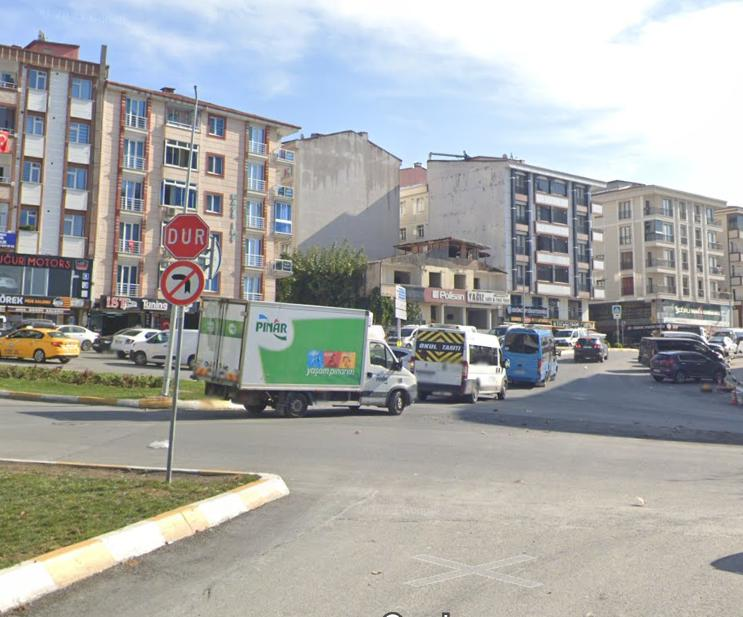leftturnsareforbidden: (160, 259, 204, 304)
stop: (165, 214, 209, 261)
